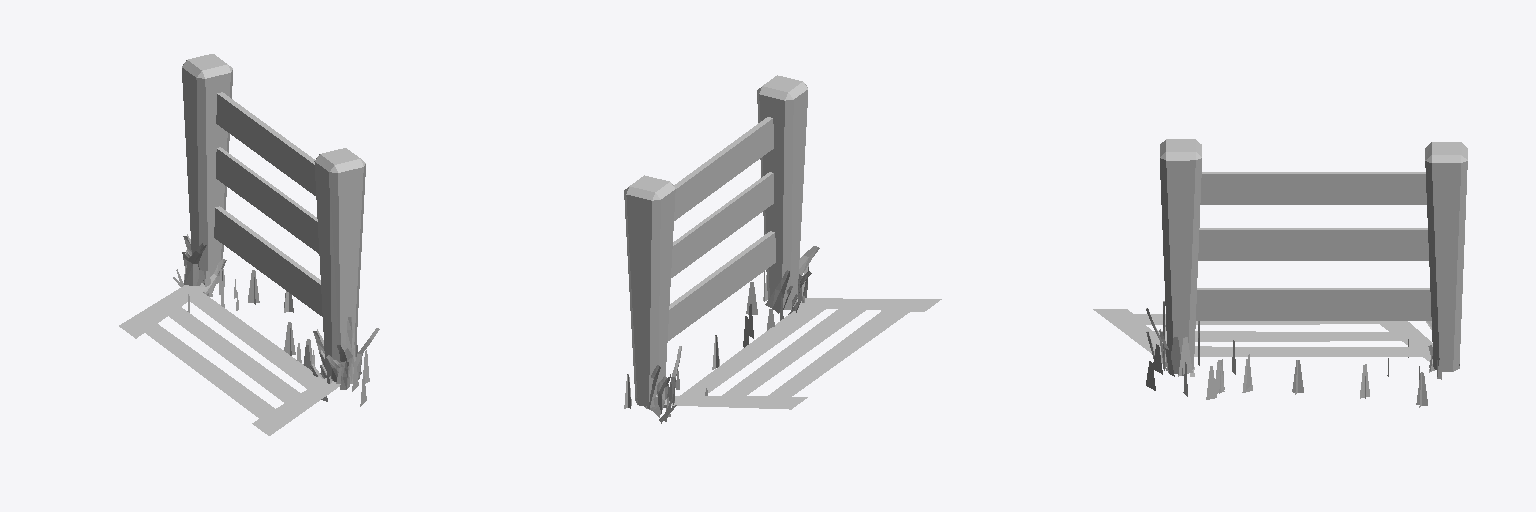
Rendered from fence2.obj.
The picture shows the model from 3 angles: view 1: azimuth 30°, elevation 25°; view 2: azimuth 150°, elevation 25°; view 3: azimuth 270°, elevation 25°; orthographic projection.
Parts seen in each view (by area): view 1: fence2:pPlane130; view 2: fence2:pPlane130; view 3: fence2:pPlane130.
Boxes of the visible parts, <box> form: fence2:pPlane130: <box>119,54,379,435</box>; fence2:pPlane130: <box>624,75,941,423</box>; fence2:pPlane130: <box>1093,139,1467,407</box>.
Size of the model in its own units: 2 by 3.03 by 4.05.